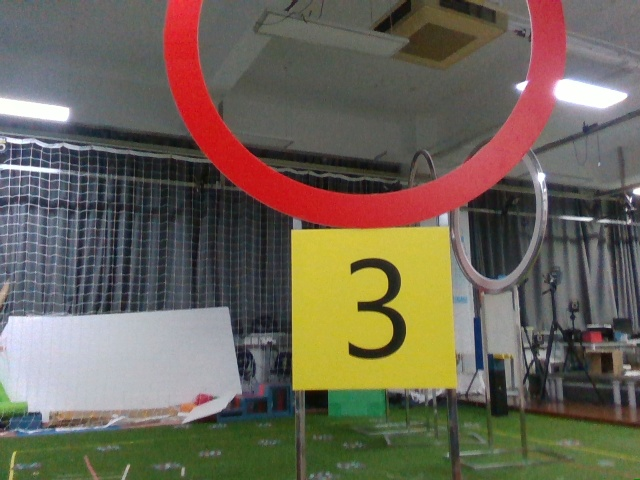target: (302, 233, 443, 382)
